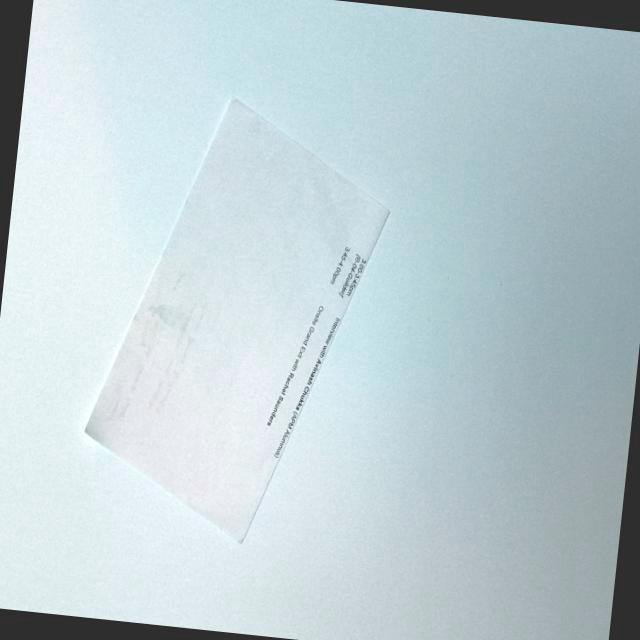paper: (36, 62, 421, 596)
